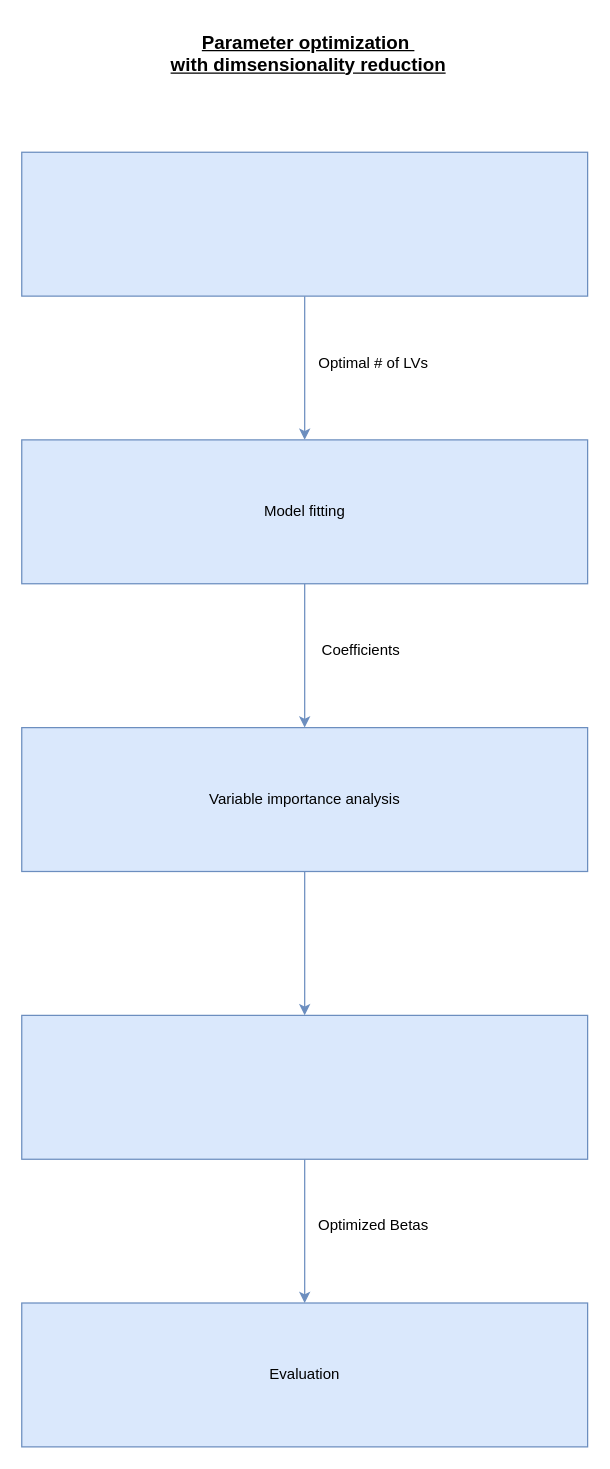
Some shapes in this 610 by 1469 pixel diagram are drawn without their labels. Each missing label, with the centre of its shape:
Full model: the point at 304,223
Reduced model: the point at 304,1086
